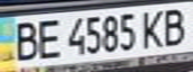4: (63, 14, 87, 56)
5: (118, 10, 142, 52), (81, 12, 103, 55)
8: (100, 11, 121, 53)
B: (6, 18, 42, 63), (157, 4, 193, 46)
E: (33, 16, 63, 61)
K: (136, 7, 169, 50)
